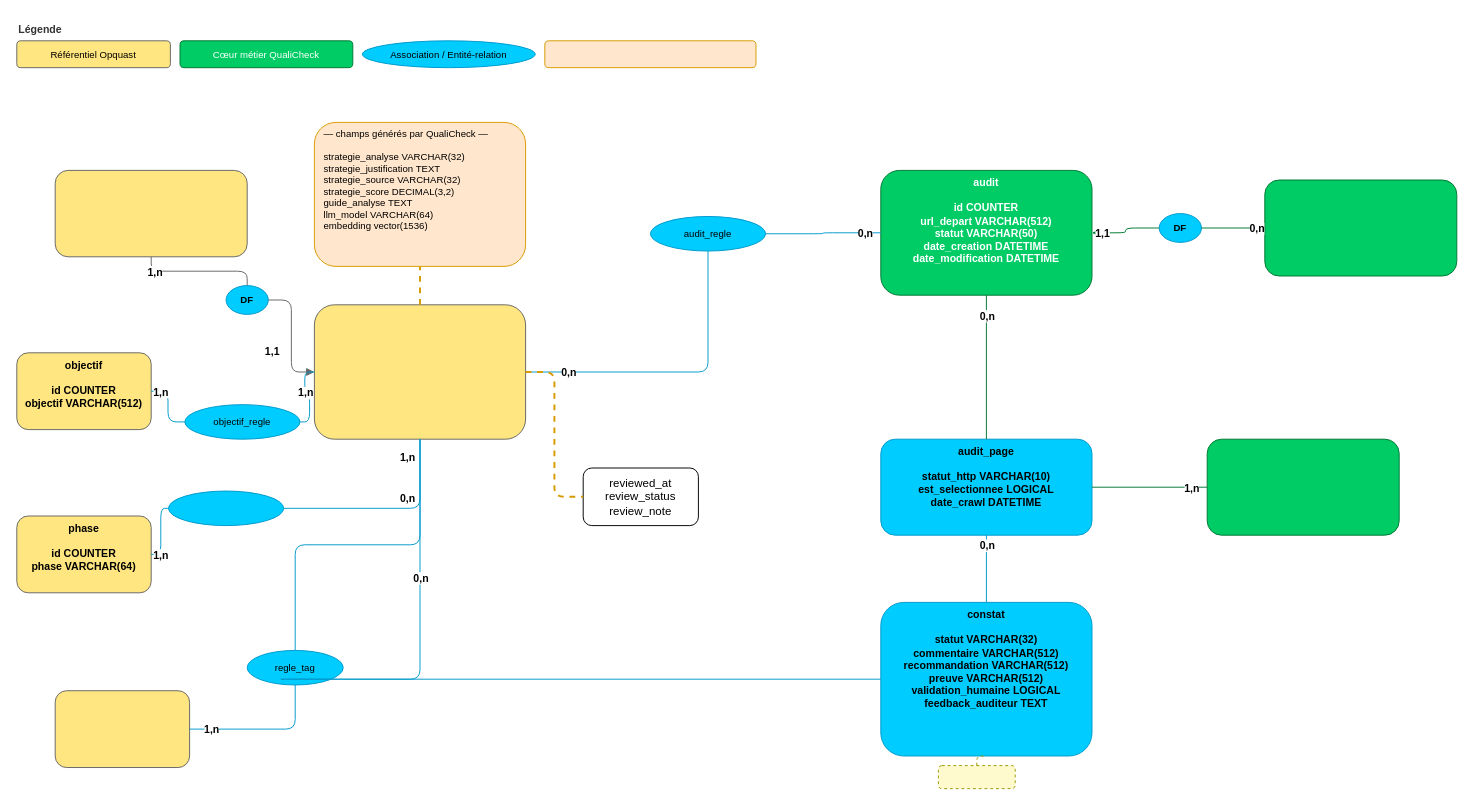
The diagram is 1474 pixels wide and 805 high, and some of its shapes have lost their labels. The centre of each missing label's shape, as x and y in pixels:
"Champs générés par QualiCheck IA" belongs at point 650,54.
"page id COUNTER url VARCHAR(512) titre VARCHAR(255)" belongs at point 1302,486.
"phase_regle" belongs at point 226,508.
"regle id COUNTER numero INT intitule VARCHAR(255) solution TEXT controle TEXT" belongs at point 419,371.
"tag id COUNTER tag VARCHAR(50)" belongs at point 122,729.
"theme id COUNTER theme VARCHAR(64)" belongs at point 150,213.
"unicité" belongs at point 976,777.
"utilisateur id COUNTER nom VARCHAR(64) prenom VARCHAR(64)" belongs at point 1360,227.
